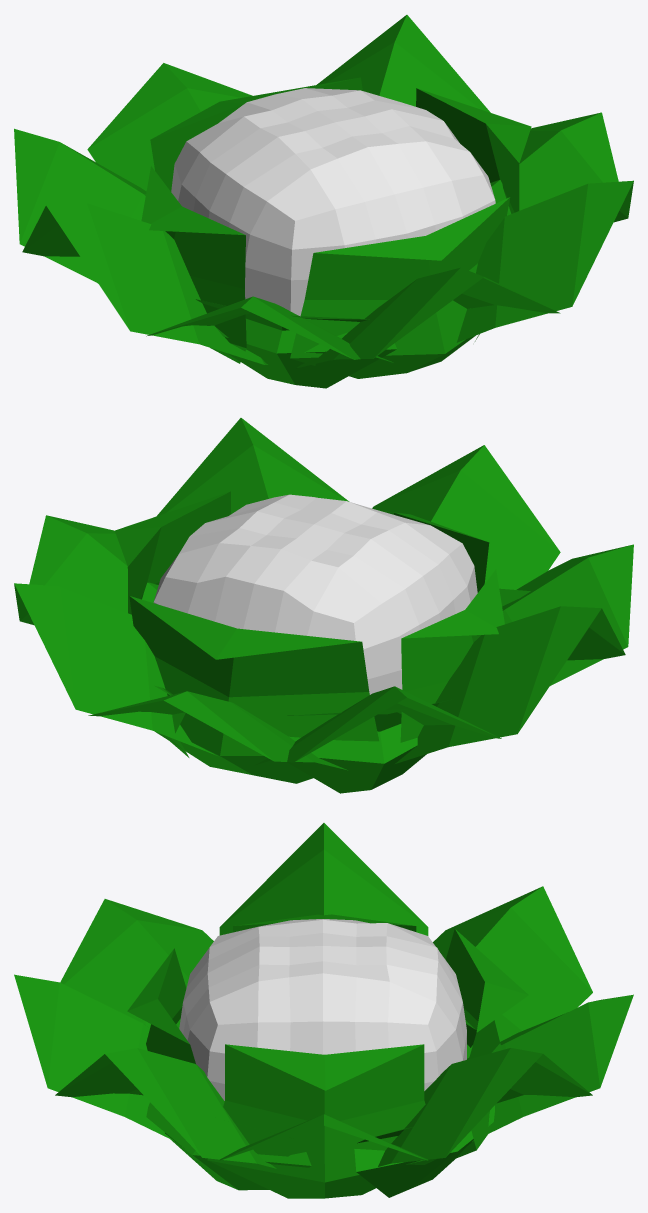
File: CauliflowerPlant.glb
3 views of the same model, one above another, from view 1: azimuth 30°, elevation 25°; view 2: azimuth 150°, elevation 25°; view 3: azimuth 270°, elevation 25° (orthographic). The views are drawn at different scales.
Visible parts, largest first — view 1: Plane.003; view 2: Plane.003; view 3: Plane.003.
Boxes of the visible parts, <box> form: Plane.003: <box>14,15,633,388</box>; Plane.003: <box>14,418,633,793</box>; Plane.003: <box>14,823,633,1198</box>.
Size of the model in its own units: 0.9122 by 0.3384 by 0.9122.
